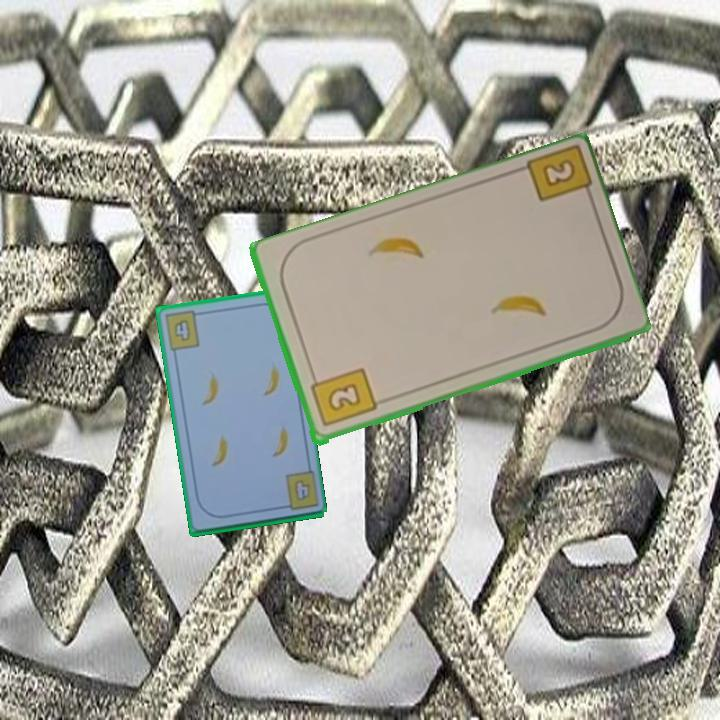2b: (520, 144, 597, 208), (307, 364, 379, 430)
4b: (161, 307, 205, 353), (290, 476, 313, 504)
